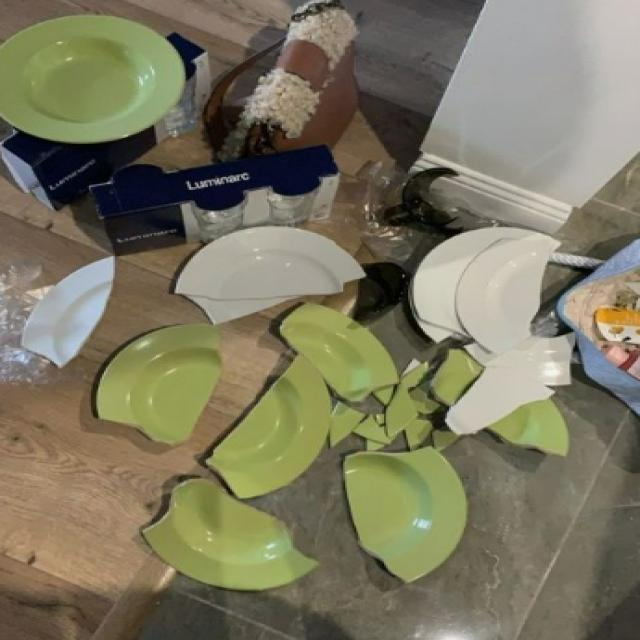PecahanKaca: (139, 299, 570, 591)
